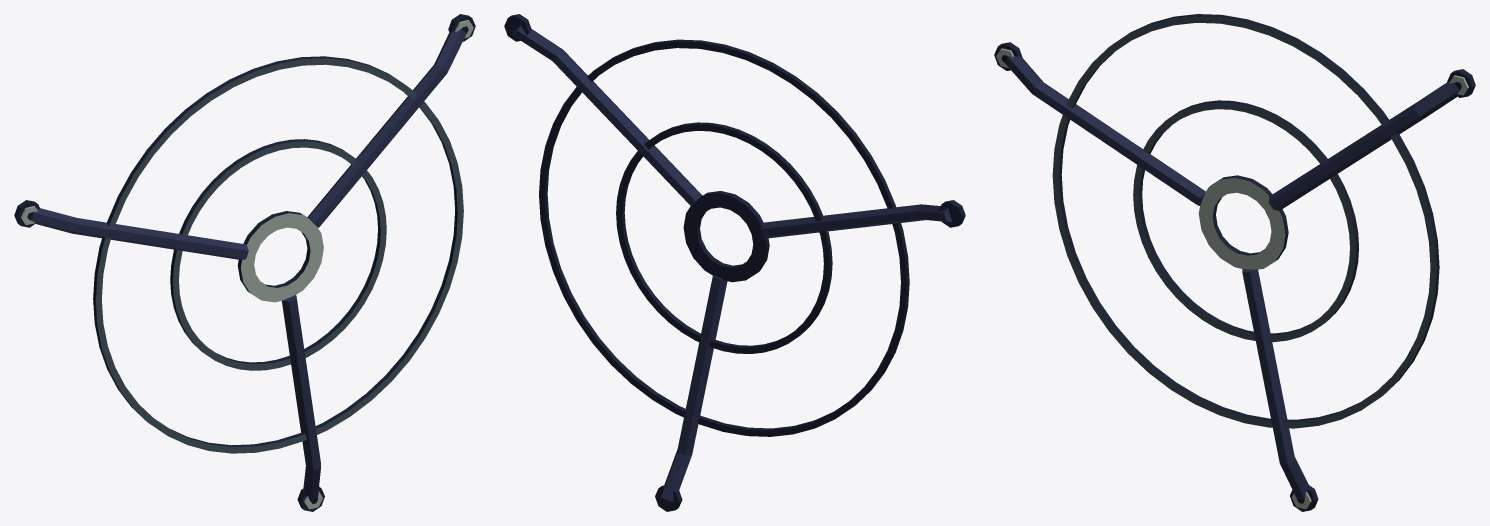
File: wire_guard.glb
The picture shows the model from 3 angles, left to right: view 1: azimuth 30°, elevation 25°; view 2: azimuth 150°, elevation 25°; view 3: azimuth 330°, elevation 25°; orthographic projection. The views are drawn at different scales.
Visible parts, largest first — view 1: Wire_guard, Guard_stays, Guard_hub, Guard_fixings; view 2: Wire_guard, Guard_stays, Guard_hub, Guard_fixings; view 3: Wire_guard, Guard_stays, Guard_hub, Guard_fixings.
Part boxes in pixels (x1,y1,x2,y2): Wire_guard: (93,56,463,453); Guard_stays: (30,27,466,501); Guard_hub: (237,211,323,302); Guard_fixings: (14,14,475,511); Wire_guard: (539,39,909,436); Guard_stays: (512,25,952,501); Guard_hub: (683,191,769,282); Guard_fixings: (504,14,965,511); Wire_guard: (1052,14,1439,428); Guard_stays: (1004,55,1460,499); Guard_hub: (1198,175,1288,269); Guard_fixings: (994,42,1475,511).
Bounding box in the file's own units: 1.37 × 1.33 × 0.1194.
